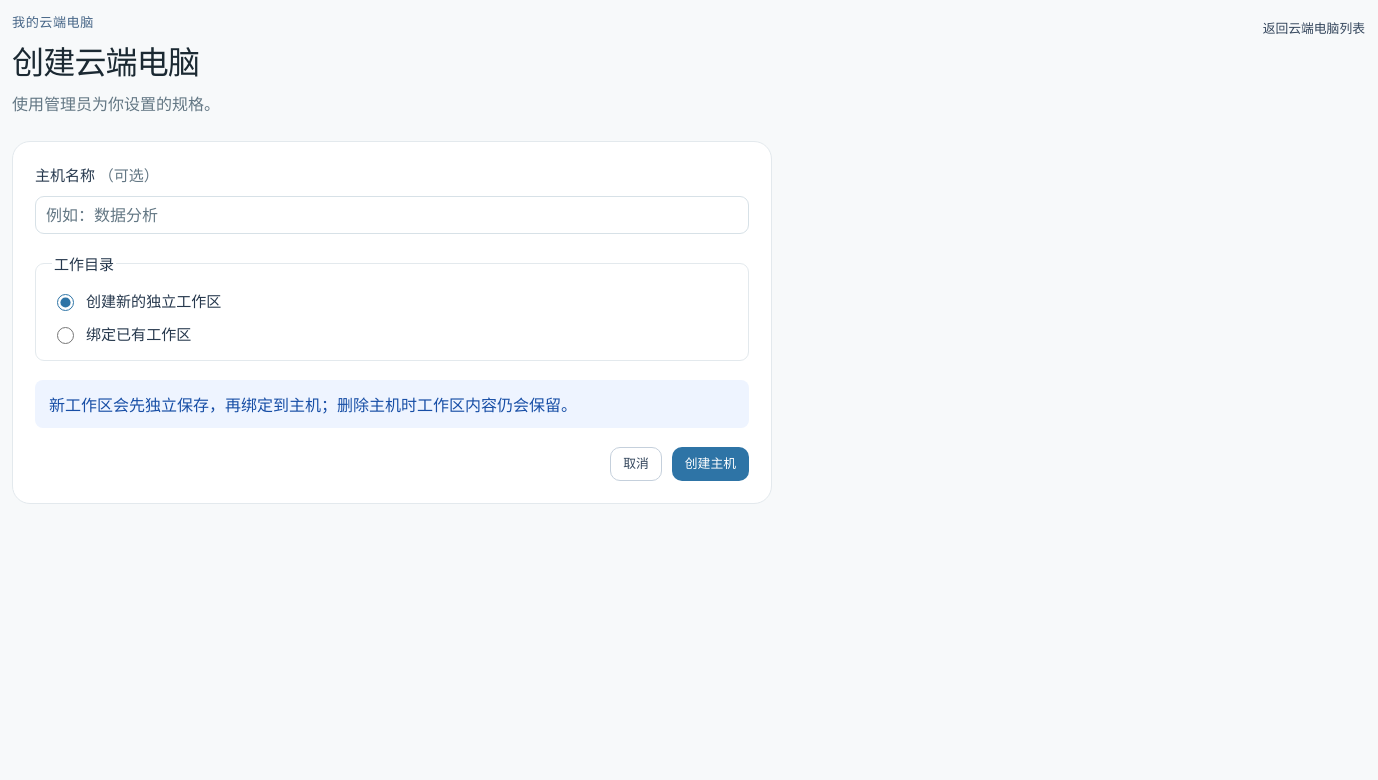
Test case: NewHost workspace loading › shows the empty workspace message only after a successful empty response
The width and height of the screenshot is (1378, 780).
Step 1. Click the radio button labelled "绑定已有工作区" → (66, 335), box [57,326,74,344]
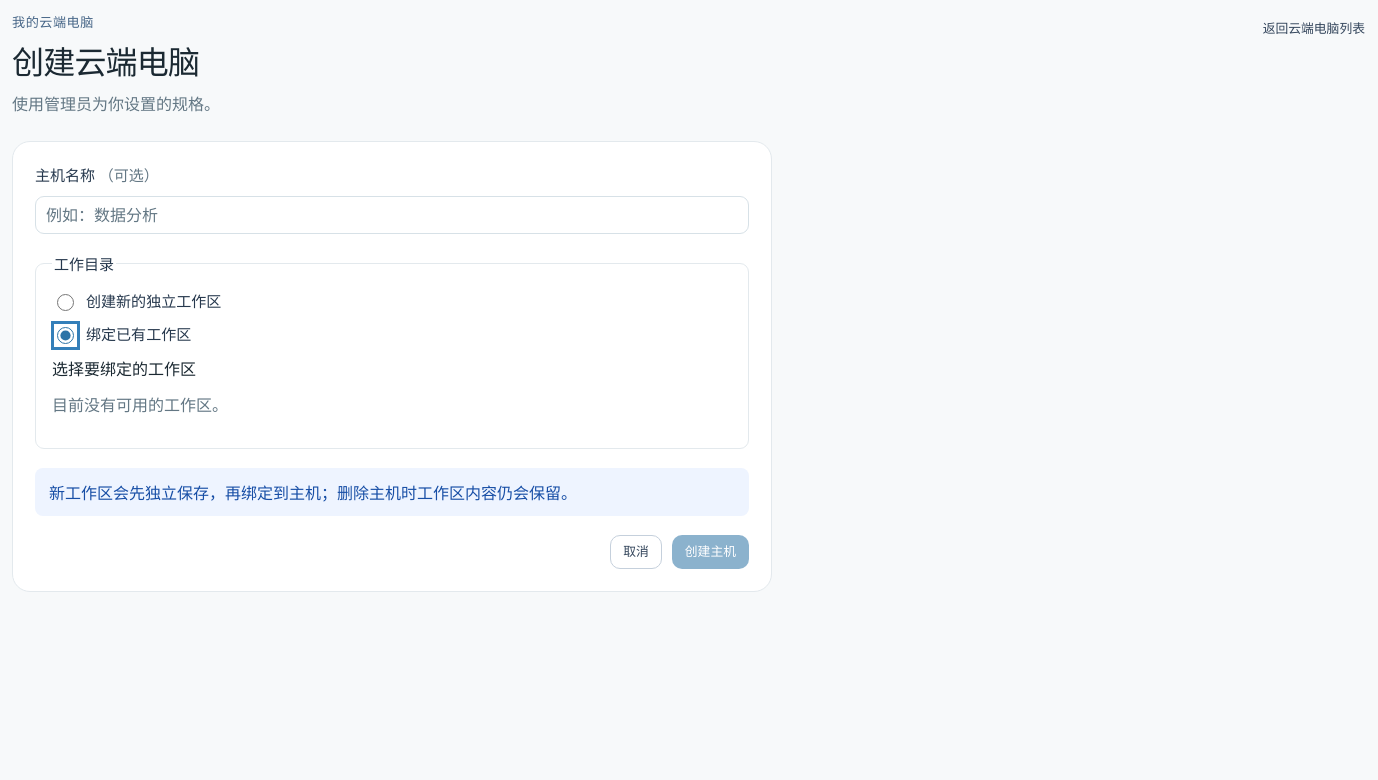
Check: the text "目前没有可用的工作区。" is shown, box [52,395,228,415]
